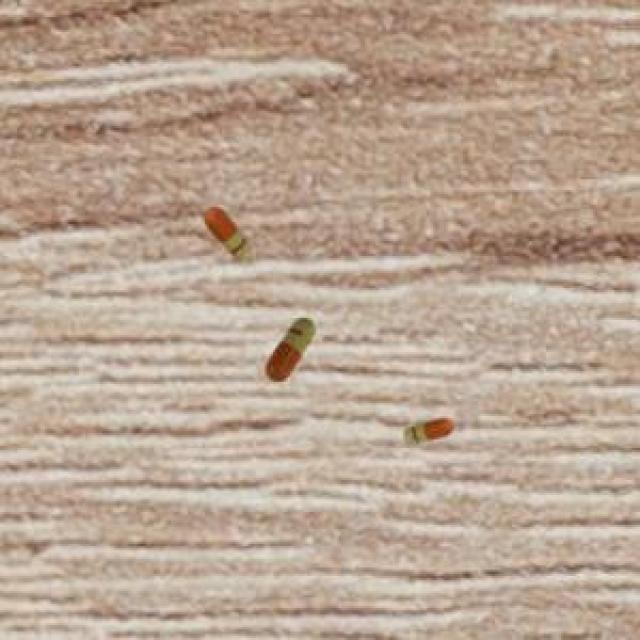Alaxan: (199, 197, 263, 277), (261, 311, 324, 387), (404, 408, 458, 450)
